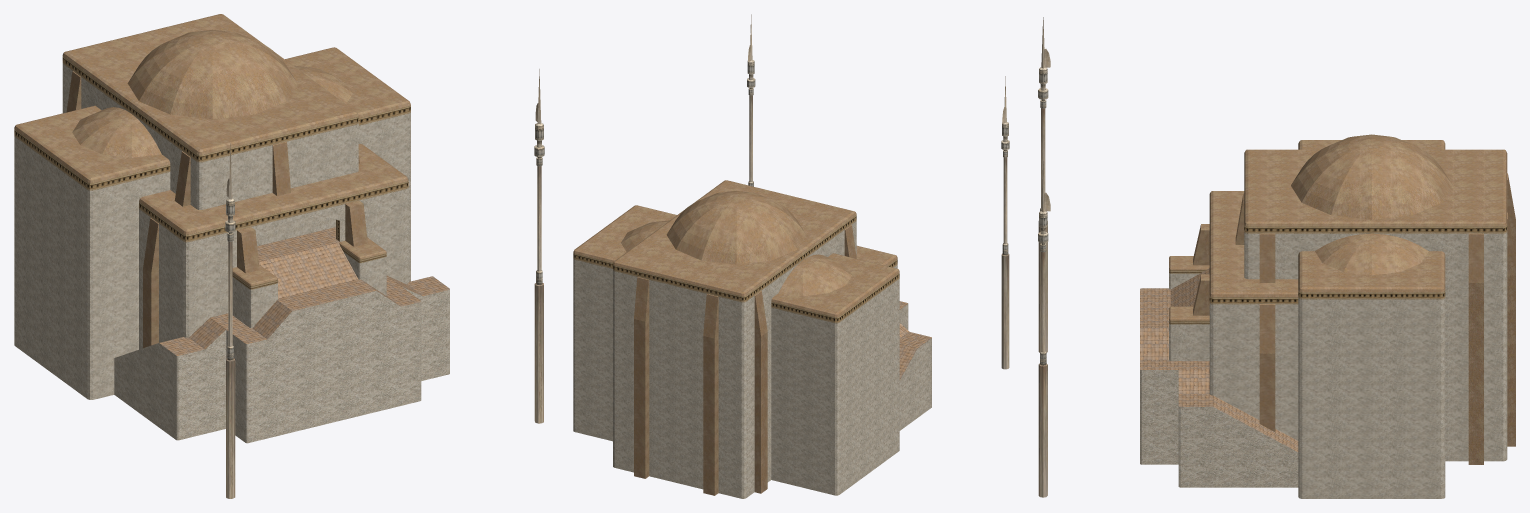
Rendered from ply_tato_capitol_s01_r0_mesh_l1.fbx.
3 views of the same model, side by side, from view 1: azimuth 30°, elevation 25°; view 2: azimuth 150°, elevation 25°; view 3: azimuth 270°, elevation 25° (orthographic). The views are drawn at different scales.
Visible parts, largest first — view 1: mesh_node; view 2: mesh_node; view 3: mesh_node.
Boxes of the visible parts, x1,y1,x2,y2 form: mesh_node: (14, 14, 544, 498); mesh_node: (573, 14, 1009, 498); mesh_node: (1038, 17, 1515, 498).
Bounding box in the file's own units: 46 × 48.23 × 61.79.
